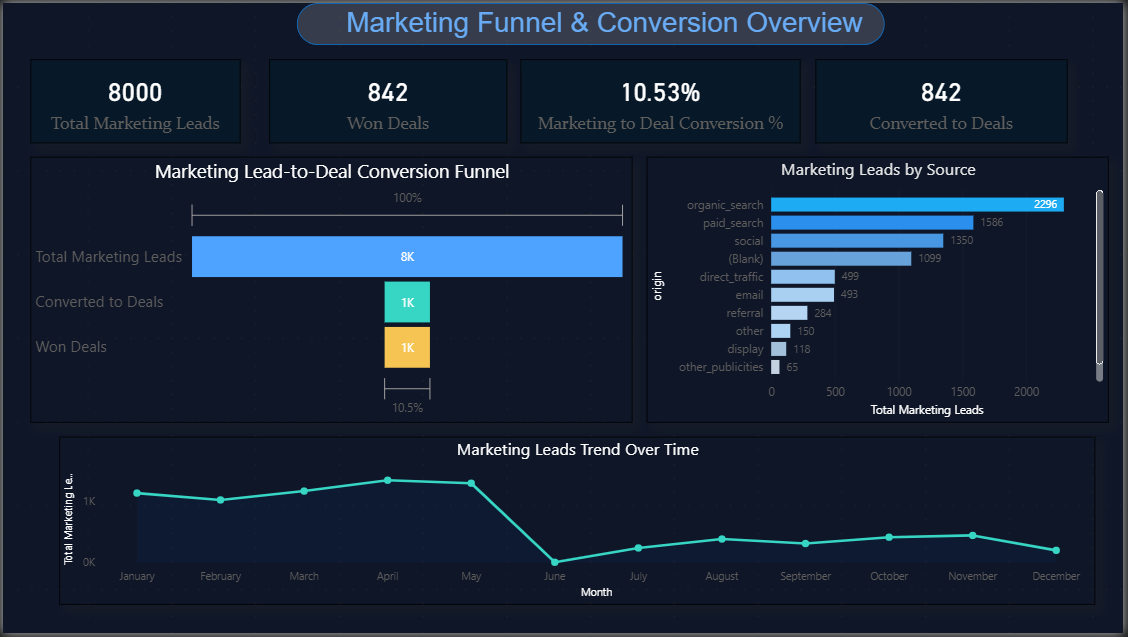

This screenshot's page, from the dashboard's own definition file:
{"tool":"powerbi","page":{"name":"Marketing Funnel & Conversion Overview","canvas":[1280,720],"ordinal":0},"visuals":[{"type":"textbox","box":[352,0,672,64],"z":0},{"type":"card","fields":{"Values":["cleaned_data.Total Marketing Leads"]},"box":[32,64,240,96],"z":1000},{"type":"card","fields":{"Values":["cleaned_data.Marketing to Deal Conversion %"]},"box":[592,64,320,96],"z":2000},{"type":"card","fields":{"Values":["cleaned_data.Converted to Deals"]},"box":[928,64,288,96],"z":3000},{"type":"card","fields":{"Values":["cleaned_data.Won Deals"]},"box":[304,64,272,96],"z":4000},{"type":"lineChart","title":"Marketing Leads Trend Over Time","fields":{"Category":["marketing_leads.first_contact_date.Variation.Date Hierarchy.Month"],"Y":["cleaned_data.Total Marketing Leads"]},"box":[64,496,1184,192],"z":5000},{"type":"shape","box":[336,0,672,48],"z":6000},{"type":"funnel","title":"Marketing Lead-to-Deal Conversion Funnel","fields":{"Y":["cleaned_data.Total Marketing Leads","cleaned_data.Converted to Deals","cleaned_data.Won Deals"]},"box":[32,176,688,304],"z":7000},{"type":"barChart","title":"Marketing Leads by Source","fields":{"Category":["marketing_leads.origin"],"Y":["cleaned_data.Total Marketing Leads"]},"box":[736,176,528,304],"z":8000}]}

Visuals, with their boxes in screenshot pixels (x1, y1, x2, y2), scaled from the page's 1280x720 canvas onto the 1128x637 screenshot:
textbox: 310, 0, 902, 57
card - cleaned_data.Total Marketing Leads: 28, 57, 240, 142
card - cleaned_data.Marketing to Deal Conversion %: 522, 57, 804, 142
card - cleaned_data.Converted to Deals: 818, 57, 1072, 142
card - cleaned_data.Won Deals: 268, 57, 508, 142
"Marketing Leads Trend Over Time" lineChart: 56, 439, 1100, 609
shape: 296, 0, 888, 42
"Marketing Lead-to-Deal Conversion Funnel" funnel: 28, 156, 634, 425
"Marketing Leads by Source" barChart: 649, 156, 1114, 425
